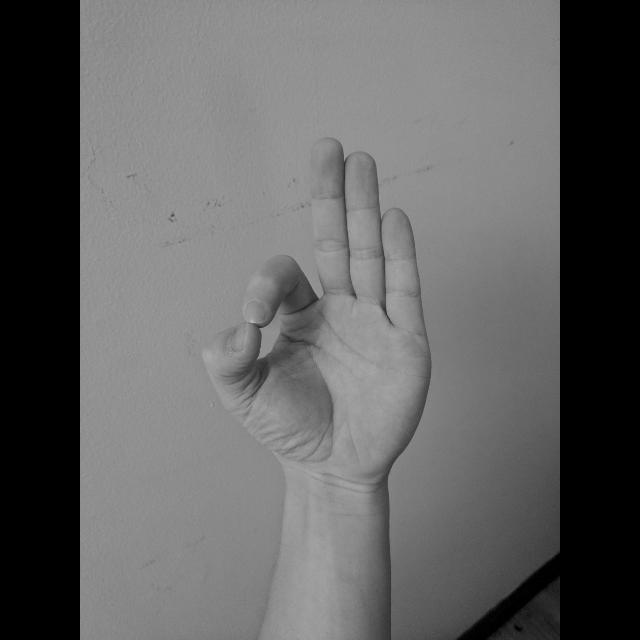F: (196, 132, 434, 494)
